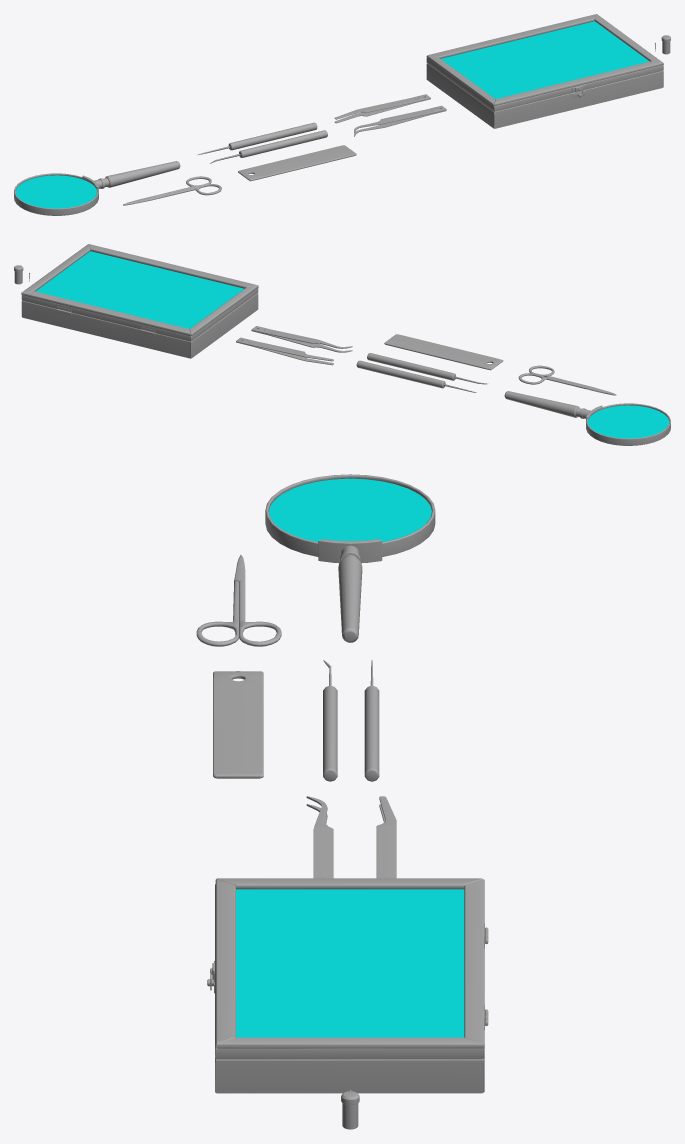
Rendered from entomology_tools.fbx.
3 renders of one model, top to bottom at view 1: azimuth 30°, elevation 25°; view 2: azimuth 150°, elevation 25°; view 3: azimuth 270°, elevation 25°, orthographic. The views are drawn at different scales.
Visible parts, largest first — view 1: display_box_glass, display_box_lid_, display_box_bottom_, magnifying_glass_lens_, magnifying_glass_, steel_ruler_, teaser_needle_straight_, teaser_needle_bent_, forceps_flat_, forceps_curved_, iris_scissors_; view 2: display_box_glass, display_box_lid_, display_box_bottom_, magnifying_glass_lens_, magnifying_glass_, steel_ruler_, teaser_needle_bent_, teaser_needle_straight_, forceps_curved_, forceps_flat_, iris_scissors_; view 3: display_box_glass, display_box_lid_, display_box_bottom_, magnifying_glass_lens_, magnifying_glass_, steel_ruler_, iris_scissors_, teaser_needle_straight_, teaser_needle_bent_, forceps_flat_, forceps_curved_.
Part boxes in pixels (left/top/right/bottom): display_box_glass: left=441, top=21, right=649, bottom=99; display_box_lid_: left=426, top=14, right=663, bottom=111; display_box_bottom_: left=426, top=63, right=663, bottom=128; magnifying_glass_lens_: left=15, top=175, right=97, bottom=208; magnifying_glass_: left=14, top=161, right=180, bottom=215; steel_ruler_: left=238, top=145, right=356, bottom=181; teaser_needle_straight_: left=197, top=122, right=317, bottom=154; teaser_needle_bent_: left=210, top=130, right=327, bottom=163; forceps_flat_: left=334, top=94, right=430, bottom=123; forceps_curved_: left=354, top=105, right=446, bottom=136; iris_scissors_: left=123, top=176, right=221, bottom=205; display_box_glass: left=35, top=251, right=244, bottom=328; display_box_lid_: left=21, top=244, right=258, bottom=341; display_box_bottom_: left=21, top=293, right=258, bottom=358; magnifying_glass_lens_: left=587, top=405, right=669, bottom=438; magnifying_glass_: left=504, top=391, right=670, bottom=445; steel_ruler_: left=384, top=334, right=503, bottom=370; teaser_needle_bent_: left=367, top=353, right=488, bottom=384; teaser_needle_straight_: left=356, top=360, right=476, bottom=392; forceps_curved_: left=251, top=326, right=352, bottom=352; forceps_flat_: left=236, top=337, right=333, bottom=365; iris_scissors_: left=518, top=365, right=616, bottom=395; display_box_glass: left=236, top=889, right=464, bottom=1037; display_box_lid_: left=210, top=878, right=488, bottom=1059; display_box_bottom_: left=207, top=931, right=487, bottom=1093; magnifying_glass_lens_: left=269, top=478, right=431, bottom=541; magnifying_glass_: left=265, top=474, right=435, bottom=642; steel_ruler_: left=213, top=671, right=263, bottom=778; iris_scissors_: left=196, top=555, right=281, bottom=646; teaser_needle_straight_: left=364, top=660, right=379, bottom=781; teaser_needle_bent_: left=323, top=660, right=337, bottom=781; forceps_flat_: left=376, top=796, right=396, bottom=878; forceps_curved_: left=306, top=796, right=333, bottom=878.
Size of the model in its own units: 96.77 by 3.58 by 18.8.
